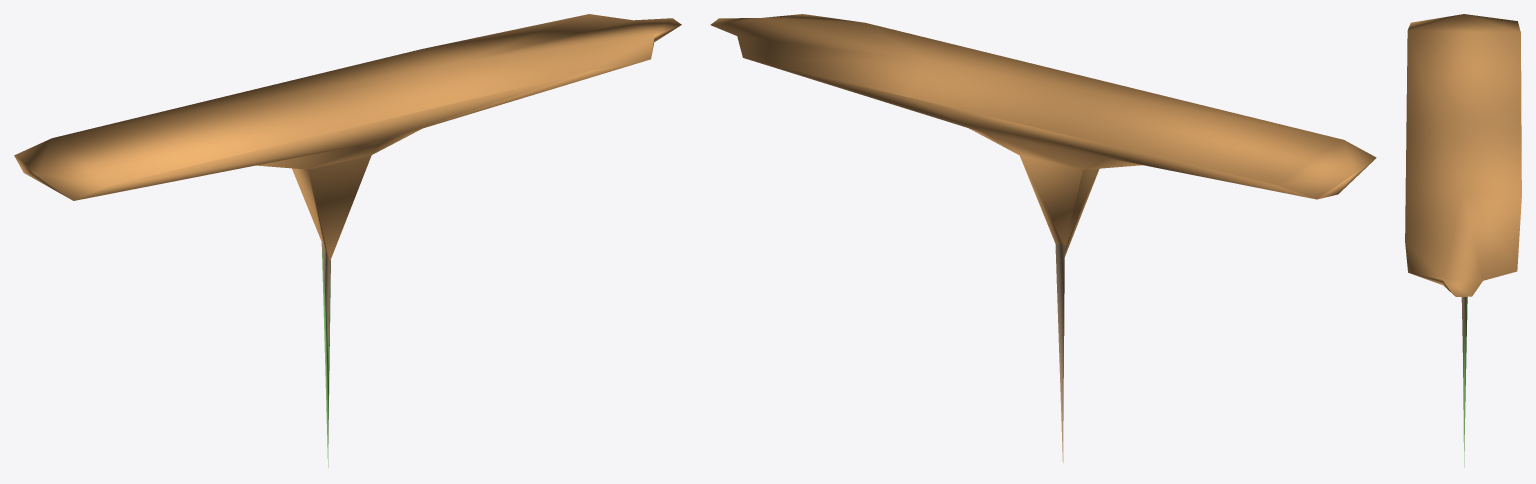
Rendered from flower_patch.glb.
The picture shows the model from 3 angles, left to right: view 1: azimuth 30°, elevation 25°; view 2: azimuth 150°, elevation 25°; view 3: azimuth 270°, elevation 25°; orthographic projection. The views are drawn at different scales.
Visible parts, largest first — view 1: lod0; view 2: lod0; view 3: lod0.
Boxes of the visible parts, left/top/right/bottom form: lod0: left=14, top=14, right=681, bottom=467; lod0: left=710, top=14, right=1376, bottom=462; lod0: left=1405, top=14, right=1521, bottom=467.
Size of the model in its own units: 0.7548 by 0.4234 by 0.1332.
Materials: 1 (1 with a texture image).
